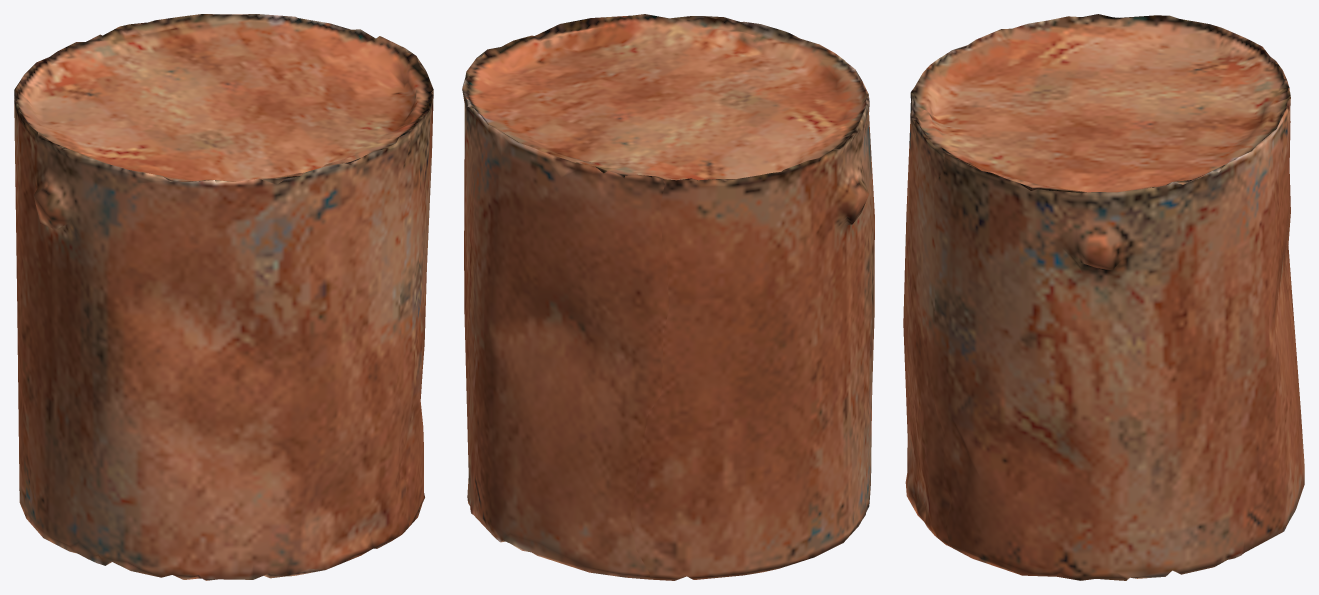
The model's file is SM_Ind_Sto_PaintCan_Metal_Worn_03.gltf.
3 views of the same model, side by side, from view 1: azimuth 30°, elevation 25°; view 2: azimuth 150°, elevation 25°; view 3: azimuth 270°, elevation 25° (orthographic).
Parts seen in each view (by area): view 1: SM_Ind_Sto_PaintCan_Metal_Worn_03; view 2: SM_Ind_Sto_PaintCan_Metal_Worn_03; view 3: SM_Ind_Sto_PaintCan_Metal_Worn_03.
Boxes of the visible parts, x1,y1,x2,y2 form: SM_Ind_Sto_PaintCan_Metal_Worn_03: (14, 14, 433, 580); SM_Ind_Sto_PaintCan_Metal_Worn_03: (462, 14, 874, 580); SM_Ind_Sto_PaintCan_Metal_Worn_03: (903, 14, 1304, 580).
Size of the model in its own units: 0.1954 by 0.2006 by 0.1777.
Materials: 1 (1 with a texture image).
